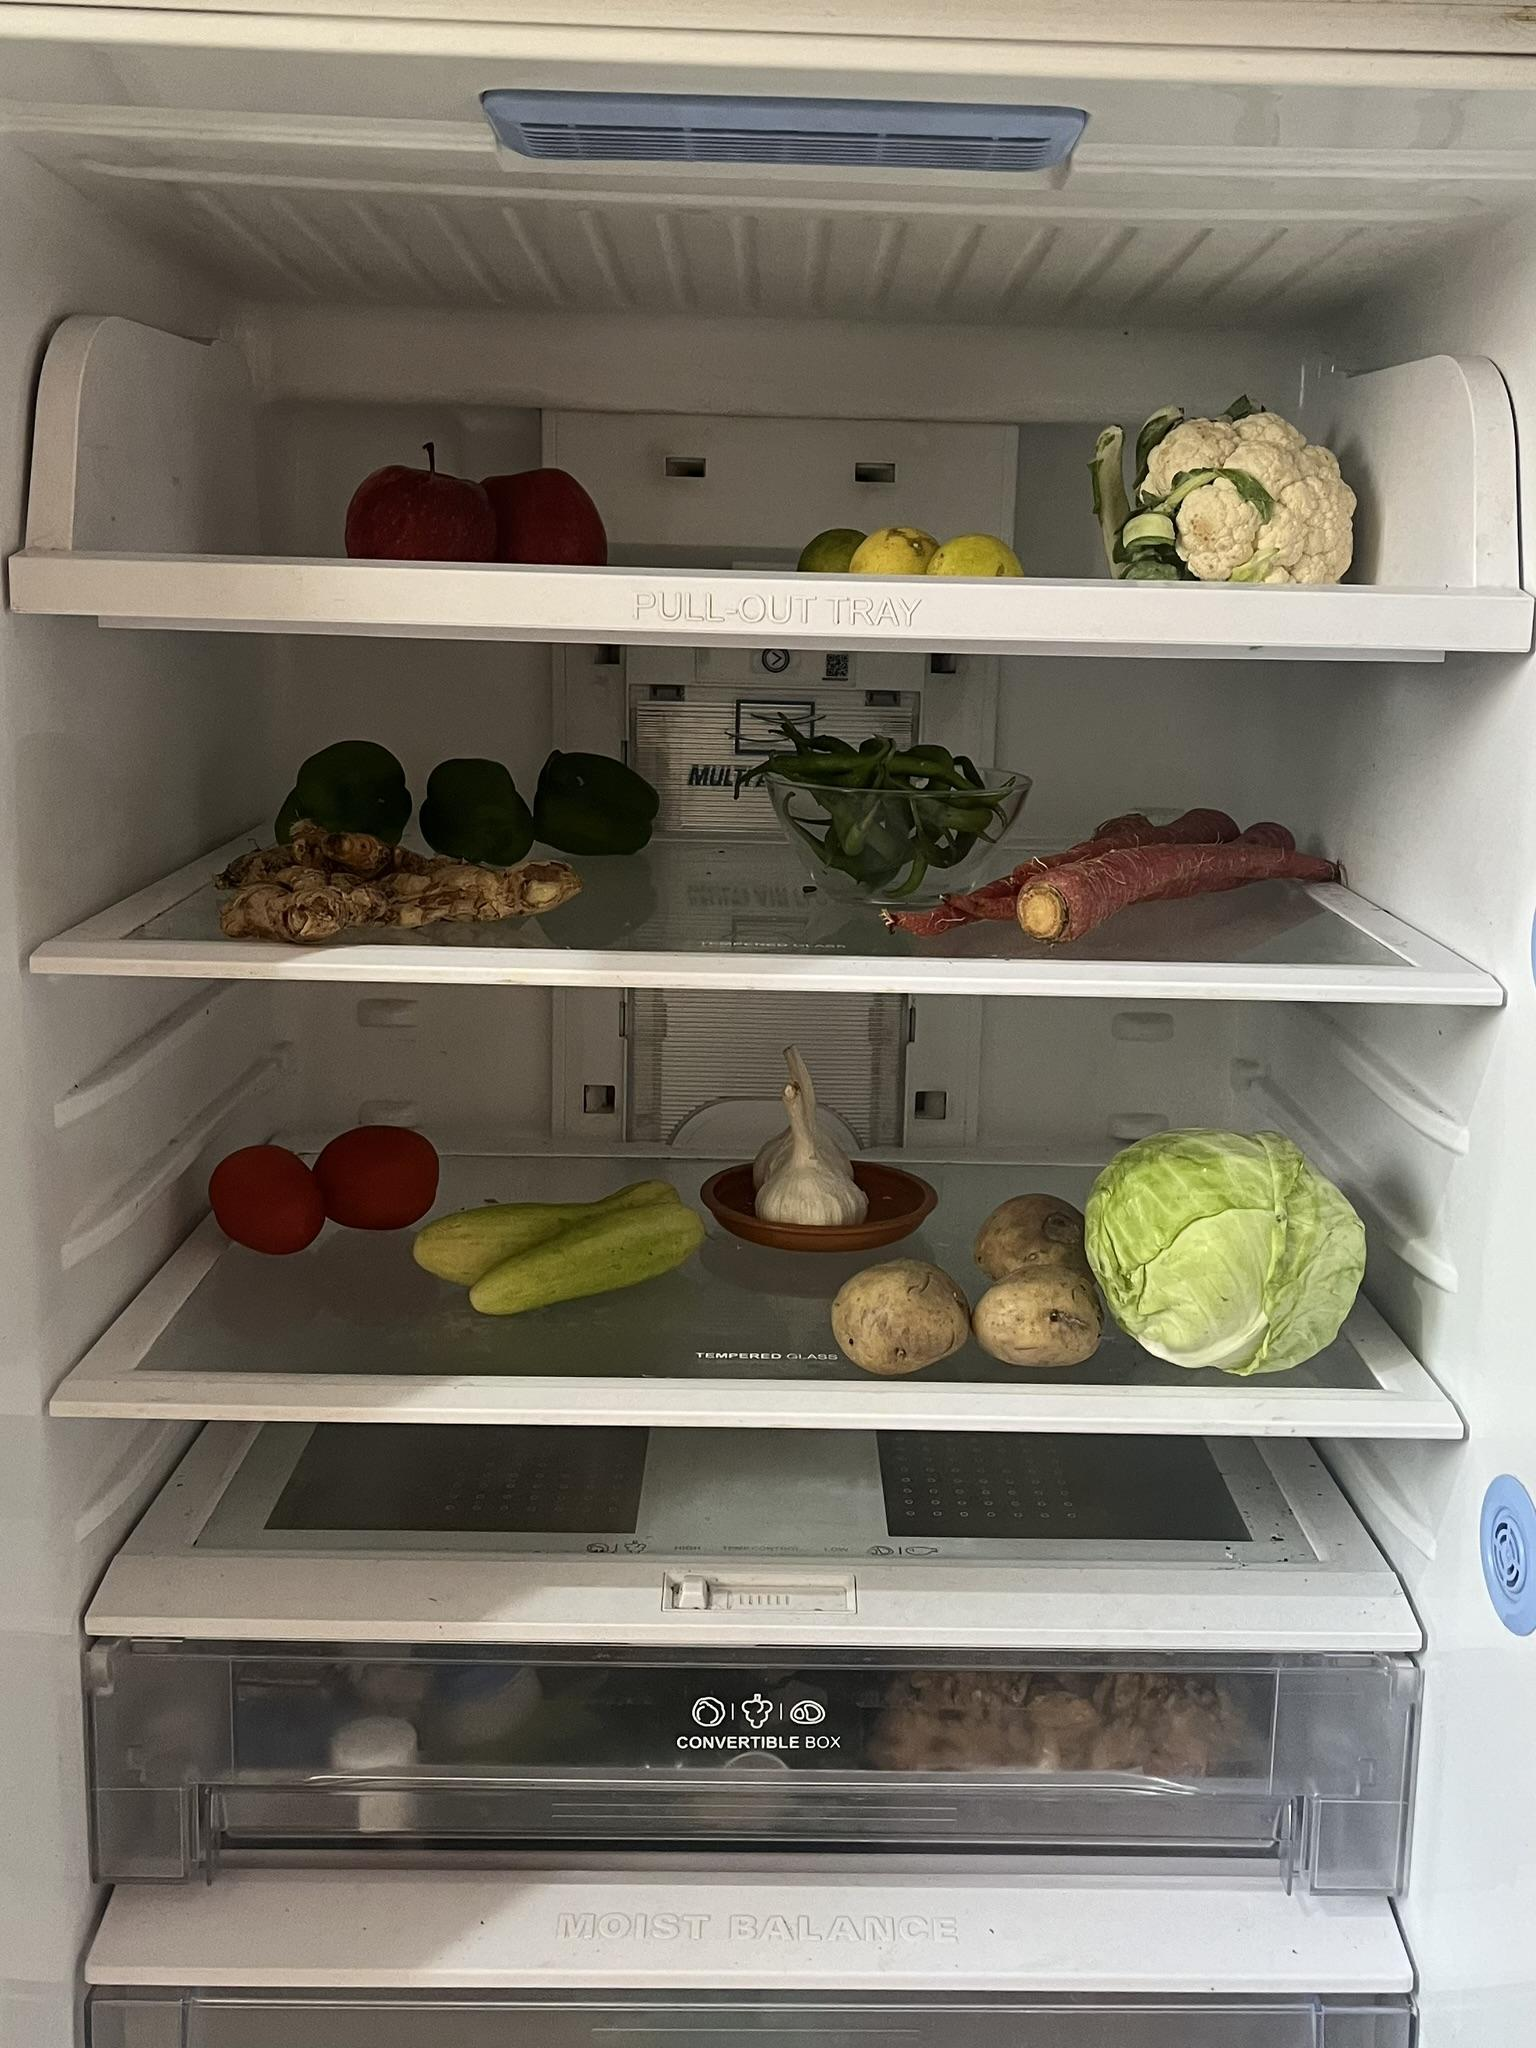apple: (342, 447, 611, 563)
cabbage: (1092, 1122, 1367, 1387)
capsicum: (271, 737, 662, 856)
carrots: (904, 801, 1352, 932)
cauliflower: (1081, 402, 1347, 582)
chillies: (776, 711, 1018, 882)
cucumber: (416, 1182, 708, 1322)
garlic: (757, 1042, 874, 1219)
ginger: (226, 822, 584, 929)
lemon: (842, 521, 1021, 585)
potato: (828, 1197, 1102, 1366)
tomato: (216, 1101, 444, 1247)
